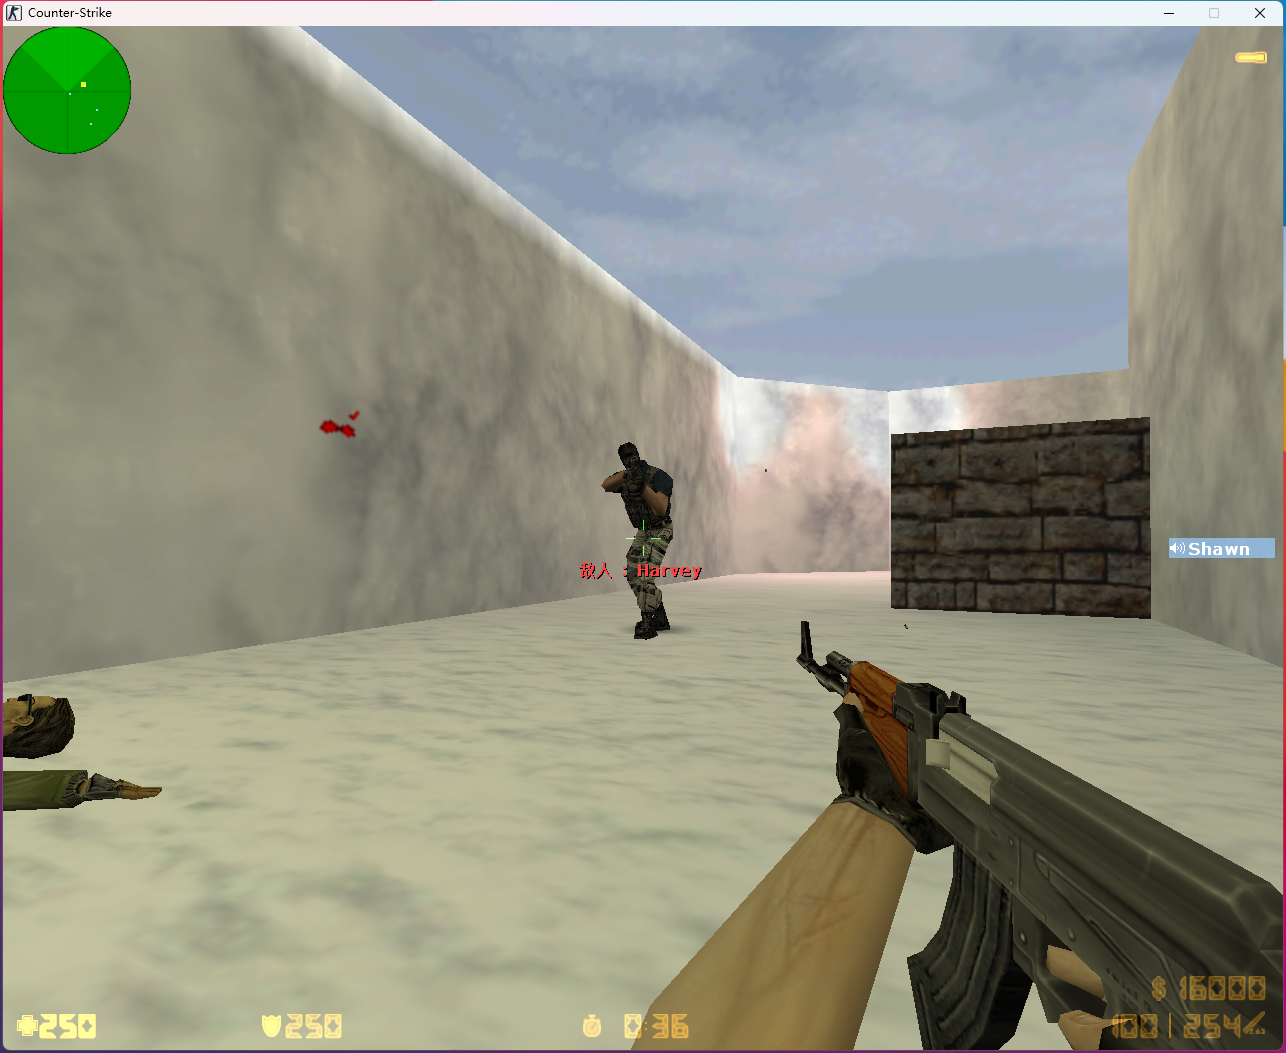T: (602, 442, 674, 642)
